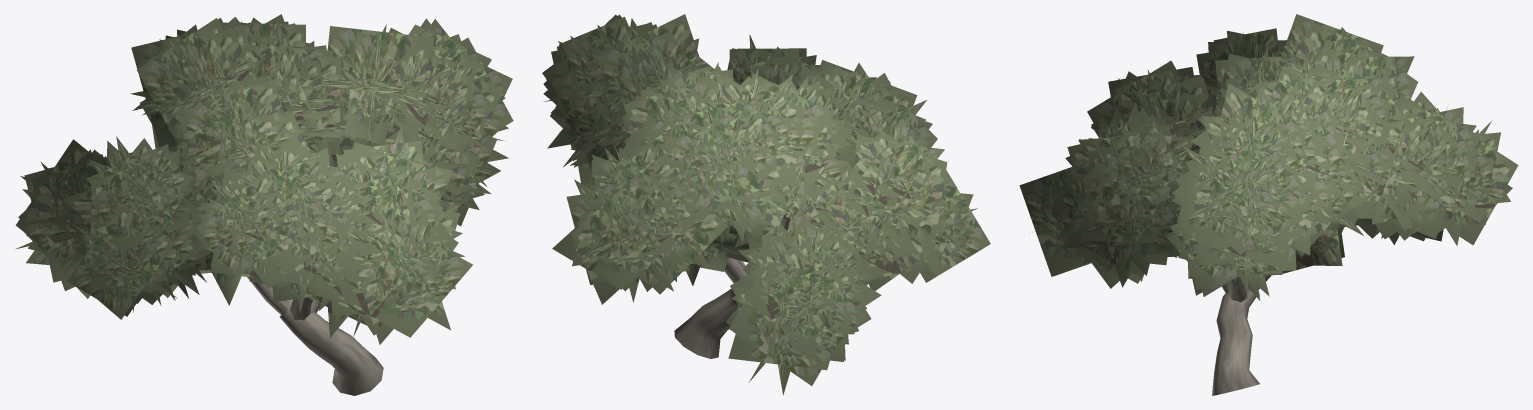
The model's file is veg_olive_a.fbx.
The picture shows the model from 3 angles, left to right: view 1: azimuth 30°, elevation 25°; view 2: azimuth 150°, elevation 25°; view 3: azimuth 270°, elevation 25°; orthographic projection. The views are drawn at different scales.
Parts seen in each view (by area): view 1: veg_olive_a_LOD0; view 2: veg_olive_a_LOD0; view 3: veg_olive_a_LOD0.
Boxes of the visible parts, box(x1,y1,x2,y2) form: veg_olive_a_LOD0: box(15, 14, 513, 395); veg_olive_a_LOD0: box(542, 14, 990, 395); veg_olive_a_LOD0: box(1019, 14, 1518, 395).
Size of what is drawn, in the model's own units: 7.35 by 5.47 by 7.5.
2 materials, 2 textured.
